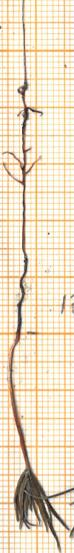flower: (0, 462, 74, 553)
root: (0, 0, 40, 334)
stem: (0, 329, 34, 469)
